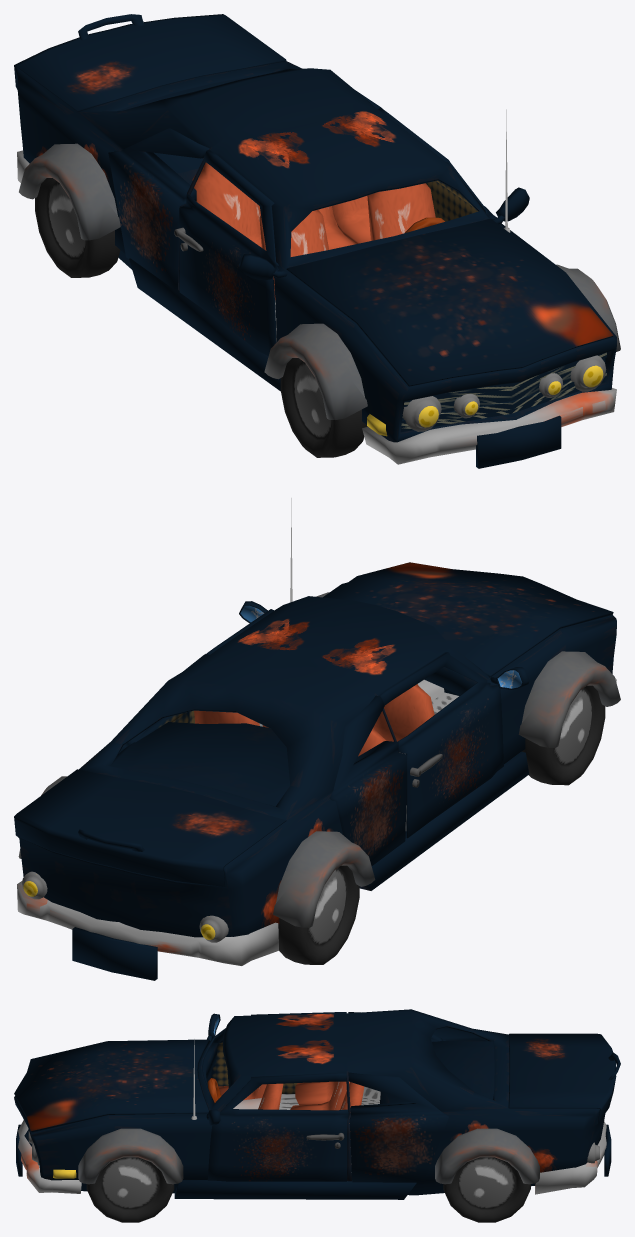
Rendered from Carro2.fbx.
The picture shows the model from 3 angles, top to bottom: view 1: azimuth 30°, elevation 25°; view 2: azimuth 150°, elevation 25°; view 3: azimuth 270°, elevation 25°; orthographic projection. The views are drawn at different scales.
Parts seen in each view (by area): view 1: carro.006, carro.003, carro.004, carro.001, Cylinder.002, Cylinder.007, carro.002, Cube.001, Cube.006, Cylinder.003, Cube.004, Cube; view 2: carro.006, carro.004, carro.003, carro.001, Cylinder.002, Cylinder.007, carro.002, Cube.003, Cube.001, Cube.004, Cylinder.004, Cube (+1 smaller); view 3: carro.006, carro.003, carro.001, Cylinder.007, carro.002, carro.004, Cylinder.002, Cube.001, Cube.003, Cube.006, Cube.007, Cube.004 (+1 smaller).
Boxes of the visible parts, x1,y1,x2,y2 form: carro.006: (15,61,616,442); carro.003: (286,218,613,386); carro.004: (14,14,286,111); carro.001: (174,108,496,355); Cylinder.002: (19,143,620,419); Cylinder.007: (35,178,366,457); carro.002: (108,90,382,289); Cube.001: (192,162,435,299); Cube.006: (362,388,616,464); Cylinder.003: (402,355,606,431); Cube.004: (476,415,561,468); Cube: (239,187,529,279); carro.006: (17,582,616,937); carro.004: (14,769,286,886); carro.003: (326,562,613,677); carro.001: (189,609,503,838); Cylinder.002: (18,592,620,927); Cylinder.007: (278,685,605,964); carro.002: (118,654,407,865); Cube.003: (17,881,279,965); Cube.001: (194,684,434,756); Cube.004: (72,927,157,980); Cylinder.004: (22,871,228,942); Cube: (239,601,529,689); carro.006: (14,1009,605,1199); carro.003: (14,1039,209,1132); carro.001: (207,1012,348,1181); Cylinder.007: (86,1157,530,1222); carro.002: (348,1012,448,1184); carro.004: (508,1033,620,1123); Cylinder.002: (78,1128,539,1184); Cube.001: (218,1081,364,1139); Cube.003: (535,1121,606,1194); Cube.006: (18,1120,81,1193); Cube.007: (233,1086,380,1172); Cube.004: (16,1124,611,1176).
Bounding box in the file's own units: 239 × 204 × 596.
